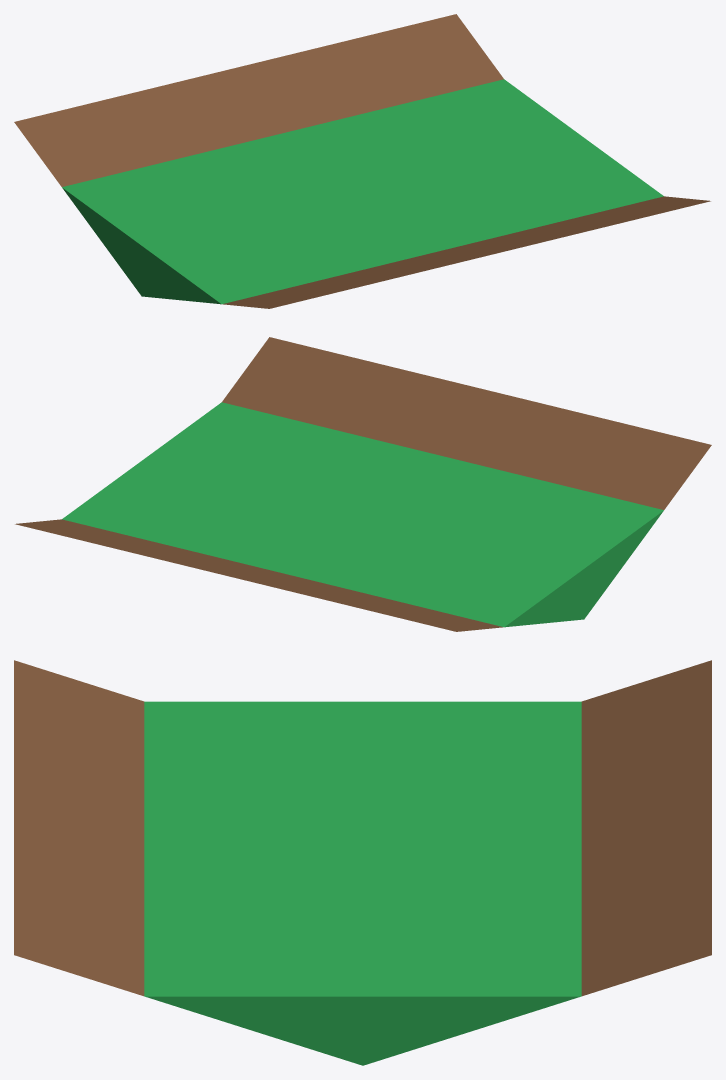
Rendered from SPW_Terrain_River_Mid.gltf.
The picture shows the model from 3 angles, top to bottom: view 1: azimuth 30°, elevation 25°; view 2: azimuth 150°, elevation 25°; view 3: azimuth 270°, elevation 25°; orthographic projection. The views are drawn at different scales.
Parts seen in each view (by area): view 1: SPW_Terrain_River_Mid; view 2: SPW_Terrain_River_Mid; view 3: SPW_Terrain_River_Mid.
Part boxes in pixels (x1,y1,x2,y2): SPW_Terrain_River_Mid: (14, 14, 710, 308); SPW_Terrain_River_Mid: (15, 337, 711, 631); SPW_Terrain_River_Mid: (14, 660, 711, 1065).
Size of the model in its own units: 1575 by 276 by 1575.
Materials: 1 (1 with a texture image).
